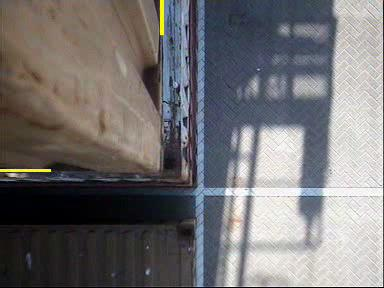groundmarker_2: (203, 18, 241, 106)
